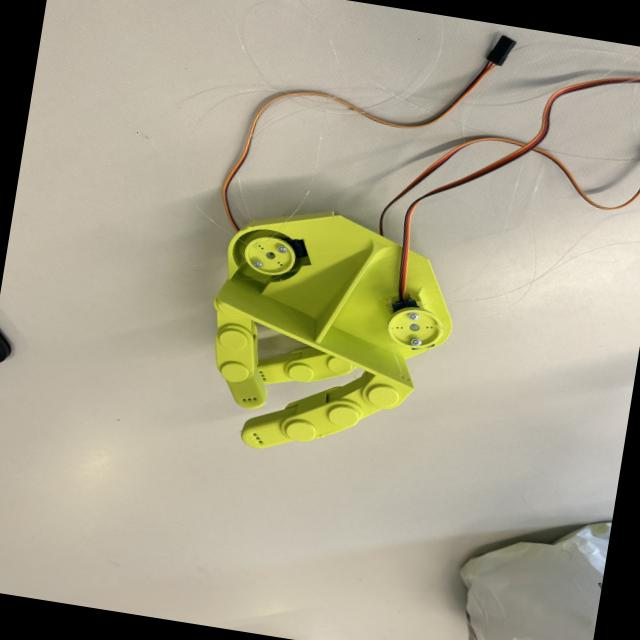prosthetic: (170, 188, 484, 480)
